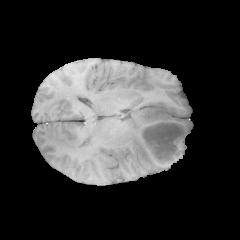glioma: (125, 105, 191, 168)
